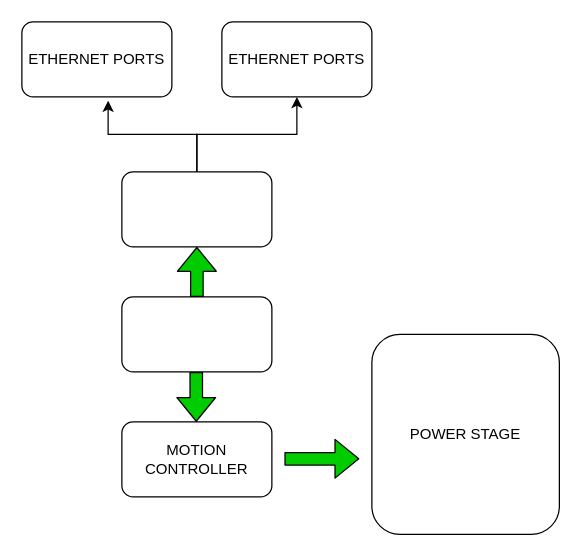
Image size: 581x556. Some labels were removed from this diagram. The shapes that lost their labels are listed below. From the top down, each one's centre as x and y in pixels, then its label:
point (196, 209): LAN STAGE
point (196, 334): SPI MANAGER
